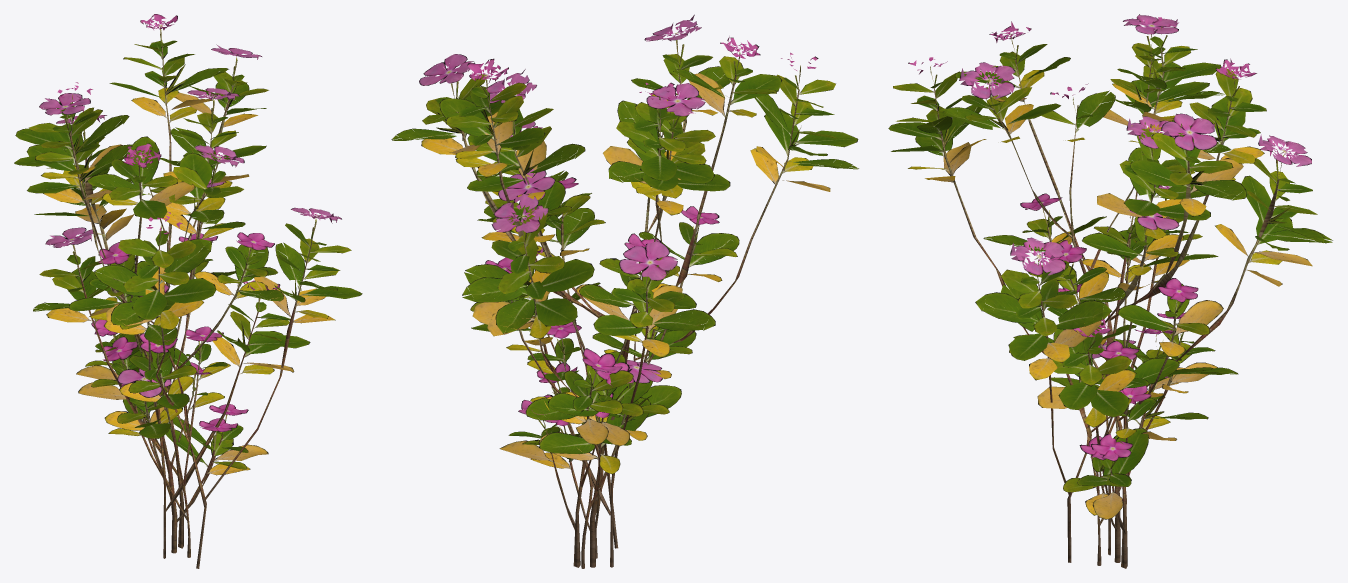
The model's file is ph_periwinkle_plant.glb.
The picture shows the model from 3 angles, left to right: view 1: azimuth 30°, elevation 25°; view 2: azimuth 150°, elevation 25°; view 3: azimuth 270°, elevation 25°; orthographic projection. The views are drawn at different scales.
Parts seen in each view (by area): view 1: v0, v1, v2, v3, v4, v5; view 2: v0, v1, v2, v3, v4, v5; view 3: v0, v1, v2, v3, v4, v5.
Part boxes in pixels (x1,y1,x2,y2): v0: (14, 82, 362, 568); v1: (26, 14, 310, 558); v2: (69, 179, 283, 548); v3: (76, 233, 250, 553); v4: (108, 326, 230, 557); v5: (104, 362, 224, 499); v0: (462, 14, 858, 548); v1: (391, 36, 782, 567); v2: (492, 167, 696, 567); v3: (470, 206, 739, 567); v4: (527, 312, 696, 558); v5: (530, 360, 681, 568); v0: (888, 17, 1332, 562); v1: (955, 14, 1266, 555); v2: (1028, 199, 1212, 568); v3: (983, 193, 1238, 562); v4: (1013, 284, 1208, 565); v5: (1051, 340, 1172, 557).
Size of the model in its own units: 0.2609 by 0.4118 by 0.3209.
Materials: 1 (1 with a texture image).
